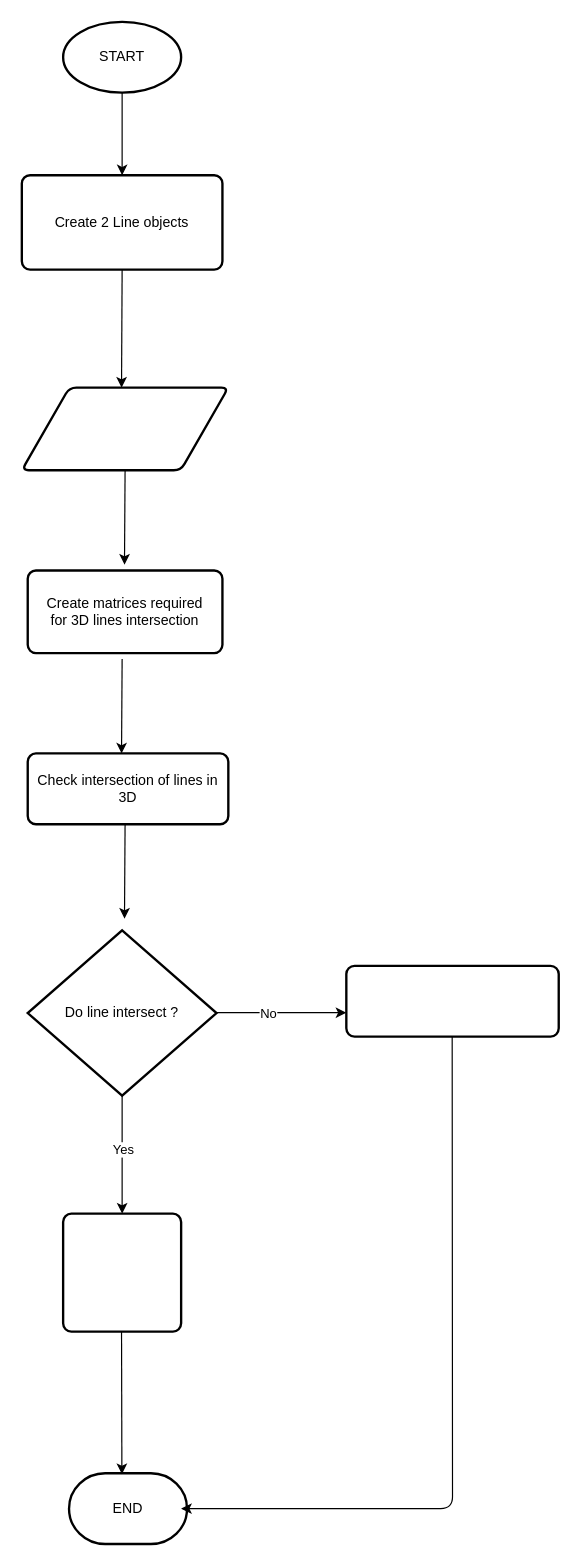
Image size: 579x1565. Some labels were removed from this diagram. The centre of each missing label's shape, as x and y in pixels:
Accept Coordinates from user: (x=124, y=428)
Print "Lines Do Not Intersect: (x=452, y=1000)
Print Coordinates of that point: (x=121, y=1272)
